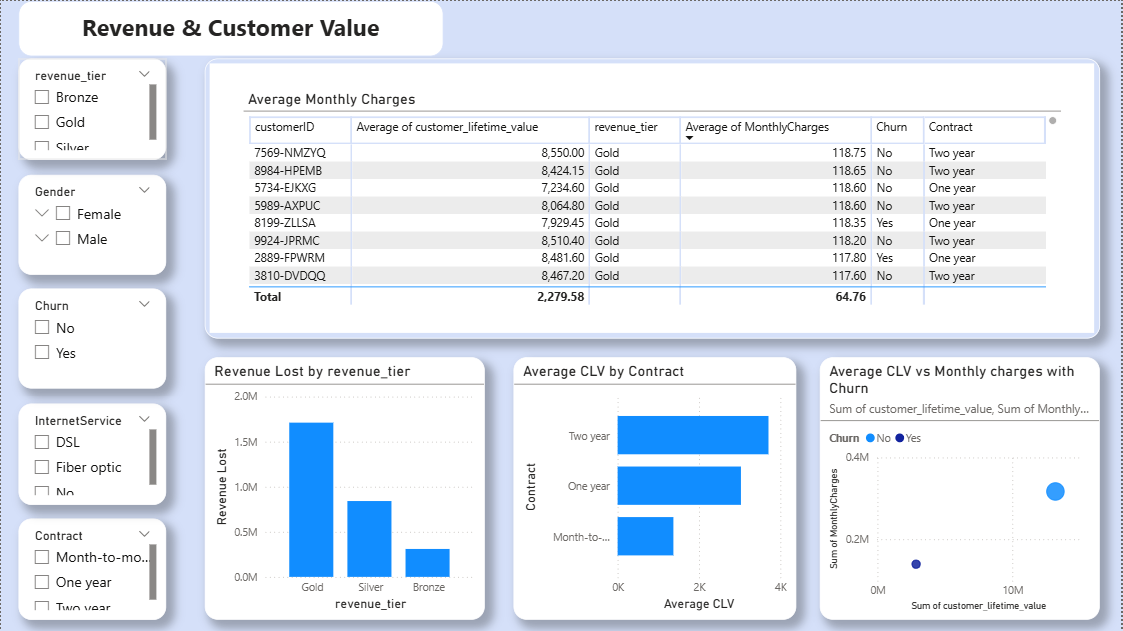

The dashboard page shown, as its layout file describes it:
{"tool":"powerbi","page":{"name":"Revenue & Customer Value","canvas":[1280,720],"ordinal":3},"visuals":[{"type":"shape","box":[232.9,65.7,1022.9,320],"z":0},{"type":"slicer","fields":{"Values":["upgraded_customer_retention.gender","upgraded_customer_retention.SeniorCitizen","upgraded_customer_retention.Partner","upgraded_customer_retention.Dependents"]},"box":[20,198.6,168.6,114.3],"z":1000},{"type":"columnChart","fields":{"Category":["upgraded_customer_retention.revenue_tier"],"Y":["upgraded_customer_retention.Revenue Lost"]},"box":[232.9,407.1,320,300],"z":2000},{"type":"clusteredBarChart","fields":{"Y":["upgraded_customer_retention.Average CLV"],"Category":["upgraded_customer_retention.Contract"]},"box":[585.7,407.1,322.9,300],"z":3000},{"type":"scatterChart","title":"Average CLV vs Monthly charges with Churn","fields":{"X":["Sum(upgraded_customer_retention.customer_lifetime_value)"],"Y":["Sum(upgraded_customer_retention.MonthlyCharges)"],"Series":["upgraded_customer_retention.Churn"],"Size":["Sum(upgraded_customer_retention.engagement_score)"]},"box":[935.7,407.1,320,300],"z":4000},{"type":"tableEx","title":"Average Monthly Charges","fields":{"Values":["upgraded_customer_retention.customerID","Avg(upgraded_customer_retention.customer_lifetime_value)","upgraded_customer_retention.revenue_tier","Avg(upgraded_customer_retention.MonthlyCharges)","upgraded_customer_retention.Churn","upgraded_customer_retention.Contract"]},"box":[277.1,101.4,934.3,250],"z":5000},{"type":"slicer","fields":{"Values":["upgraded_customer_retention.Contract"]},"box":[20.4,591.1,168.6,115.7],"z":6000},{"type":"slicer","fields":{"Values":["upgraded_customer_retention.InternetService"]},"box":[20,460,168.6,115.7],"z":7000},{"type":"slicer","fields":{"Values":["upgraded_customer_retention.revenue_tier"]},"box":[20,65.7,168.6,115.7],"z":8000},{"type":"slicer","fields":{"Values":["upgraded_customer_retention.Churn"]},"box":[20,328.6,168.6,114.3],"z":9000},{"type":"textbox","box":[20,0,485.7,62.9],"z":9001}]}

Visuals, with their boxes in screenshot pixels (x1, y1, x2, y2), scaled from the page's 1280x720 canvas onto the 1123x631 screenshot:
shape: <region>204, 58, 1102, 338</region>
slicer - upgraded_customer_retention.gender x upgraded_customer_retention.SeniorCitizen: <region>18, 174, 165, 274</region>
columnChart - upgraded_customer_retention.revenue_tier x upgraded_customer_retention.Revenue Lost: <region>204, 357, 485, 620</region>
clusteredBarChart - upgraded_customer_retention.Average CLV x upgraded_customer_retention.Contract: <region>514, 357, 797, 620</region>
"Average CLV vs Monthly charges with Churn" scatterChart: <region>821, 357, 1102, 620</region>
"Average Monthly Charges" tableEx: <region>243, 89, 1063, 308</region>
slicer - upgraded_customer_retention.Contract: <region>18, 518, 166, 619</region>
slicer - upgraded_customer_retention.InternetService: <region>18, 403, 165, 505</region>
slicer - upgraded_customer_retention.revenue_tier: <region>18, 58, 165, 159</region>
slicer - upgraded_customer_retention.Churn: <region>18, 288, 165, 388</region>
textbox: <region>18, 0, 444, 55</region>
